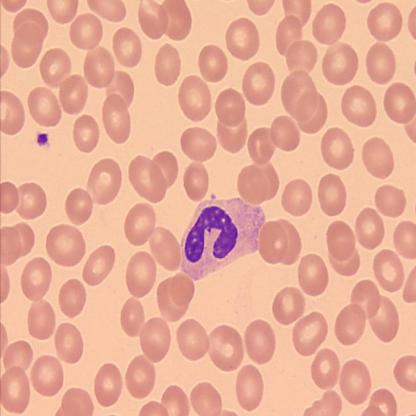Band Neutrophil: (178, 192, 266, 286)
